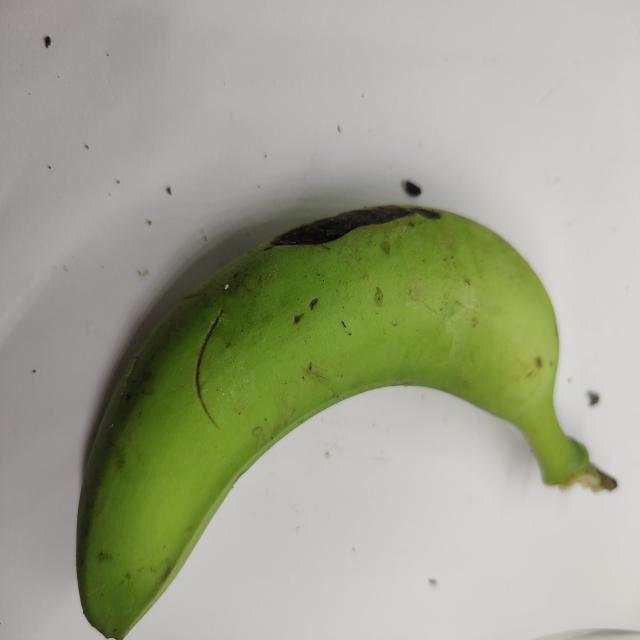Raw: (69, 156, 626, 640)
